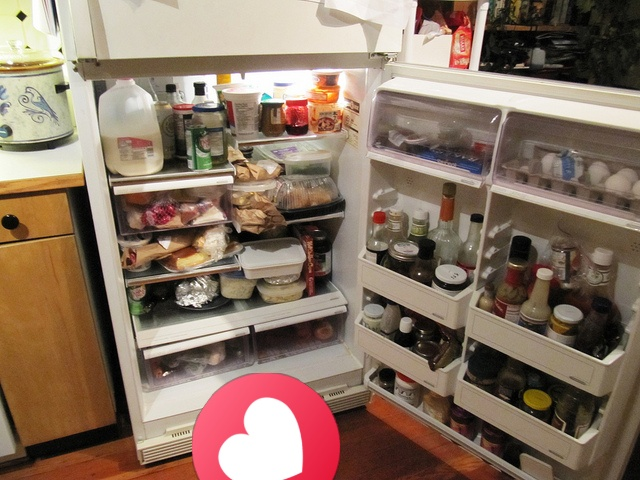love: (192, 373, 340, 480)
